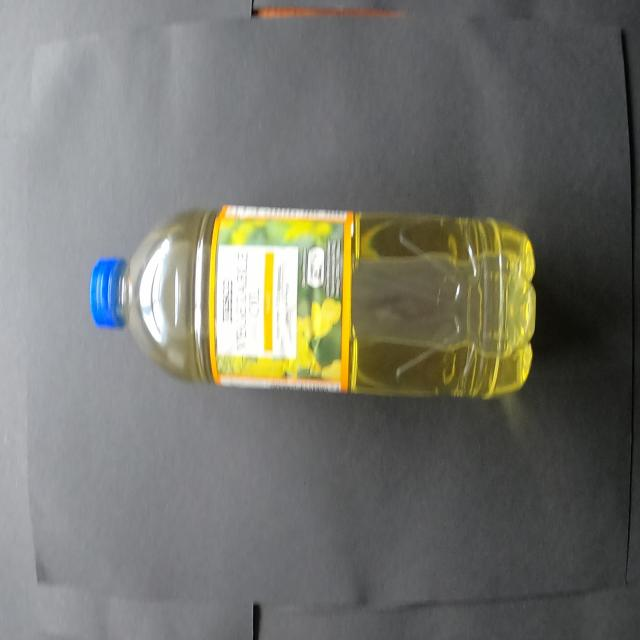Vegetableoil: (68, 162, 554, 453)
